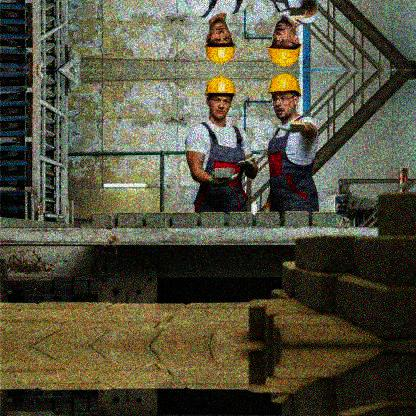helmet: (267, 71, 304, 122), (265, 17, 303, 65), (203, 75, 235, 120), (204, 18, 236, 63)
